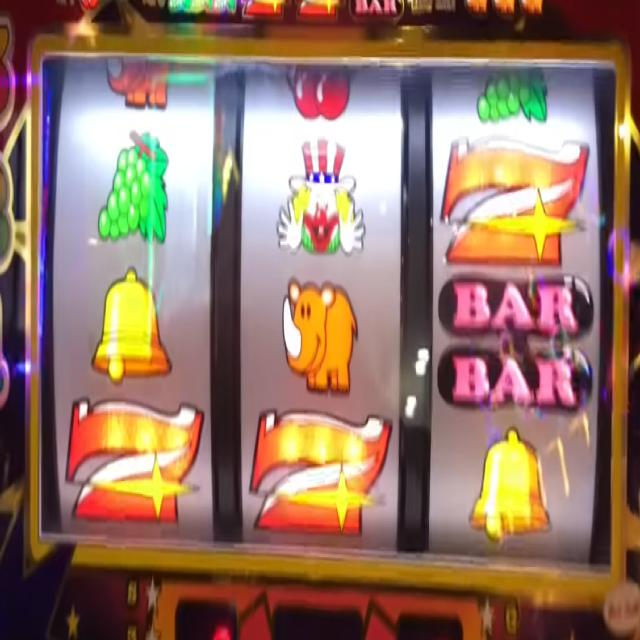bar: (437, 274, 595, 416), (347, 0, 404, 19)
bell: (93, 261, 172, 384), (470, 427, 552, 545)
cherry: (286, 64, 354, 120)
clown: (276, 137, 367, 259)
display: (39, 49, 611, 575)
elephant: (282, 273, 359, 395), (104, 50, 174, 112)
grape: (95, 128, 170, 248), (475, 70, 551, 123)
z: (442, 134, 591, 260), (63, 397, 207, 524), (250, 413, 392, 530)
